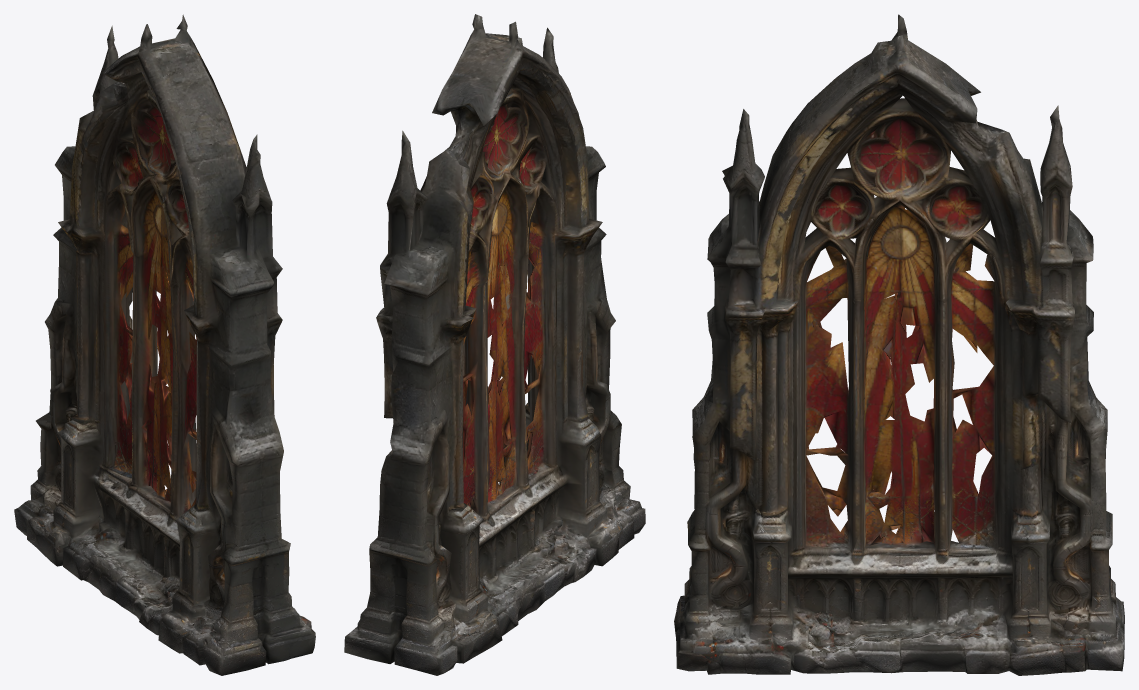
Rendered from env_ca_window.glb.
3 renders of one model, left to right at view 1: azimuth 30°, elevation 25°; view 2: azimuth 150°, elevation 25°; view 3: azimuth 270°, elevation 25°, orthographic. The views are drawn at different scales.
Visible parts, largest first — view 1: tripo_node_4aea8f65-ef1a-400a-831e-65caad55e507; view 2: tripo_node_4aea8f65-ef1a-400a-831e-65caad55e507; view 3: tripo_node_4aea8f65-ef1a-400a-831e-65caad55e507.
Boxes of the visible parts, x1,y1,x2,y2 form: tripo_node_4aea8f65-ef1a-400a-831e-65caad55e507: (14, 14, 315, 675); tripo_node_4aea8f65-ef1a-400a-831e-65caad55e507: (344, 14, 645, 675); tripo_node_4aea8f65-ef1a-400a-831e-65caad55e507: (674, 14, 1124, 675).
Bounding box in the file's own units: 0.2098 × 1 × 0.6575.
1 material, 1 textured.
